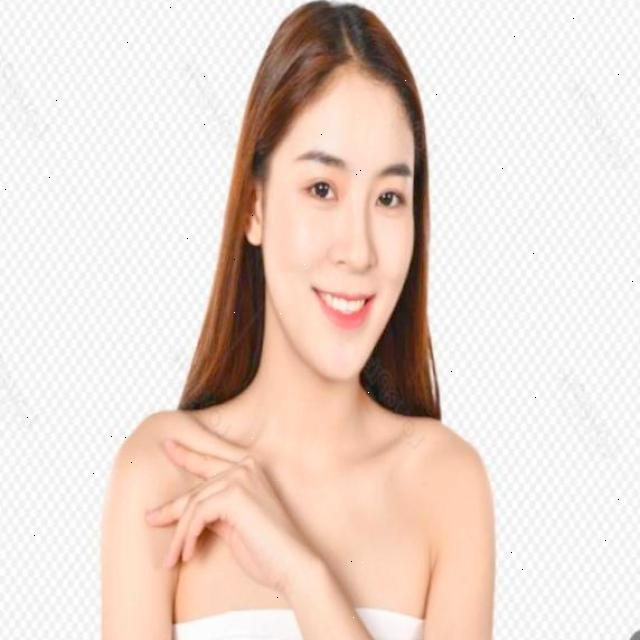puffy_eyes: (300, 198, 335, 211), (375, 207, 405, 220)
